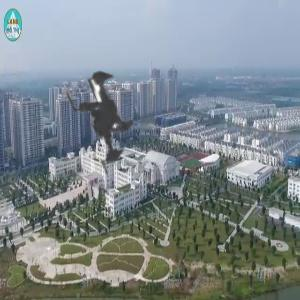drone: (22, 23, 203, 204)
